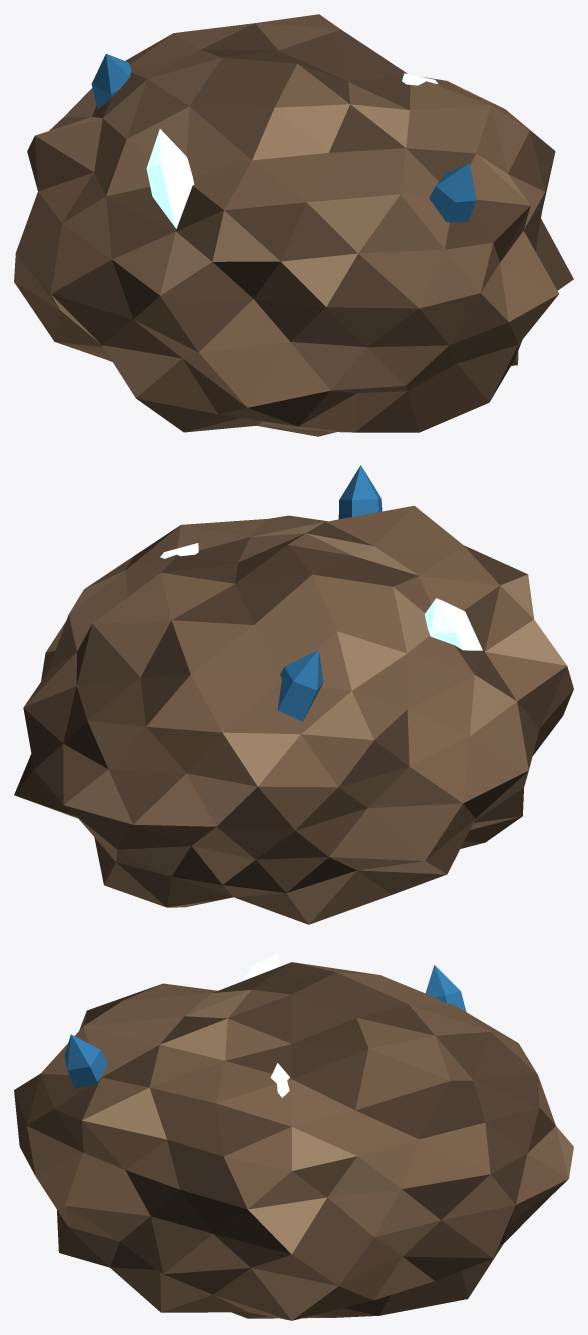
File: asteroide-3.glb
3 views of the same model, one above another, from view 1: azimuth 30°, elevation 25°; view 2: azimuth 150°, elevation 25°; view 3: azimuth 270°, elevation 25° (orthographic). The views are drawn at different scales.
Parts seen in each view (by area): view 1: asteroide-3; view 2: asteroide-3; view 3: asteroide-3.
Part boxes in pixels (box(x1,y1,x2,y2)): asteroide-3: box(14, 14, 573, 436); asteroide-3: box(14, 465, 573, 924); asteroide-3: box(14, 953, 573, 1320).
Bounding box in the file's own units: 29.28 × 19.36 × 32.17.
